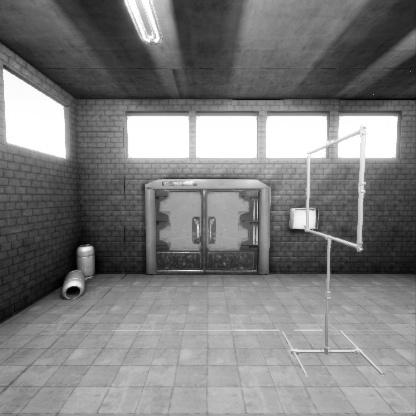gate: (306, 171, 368, 295)
